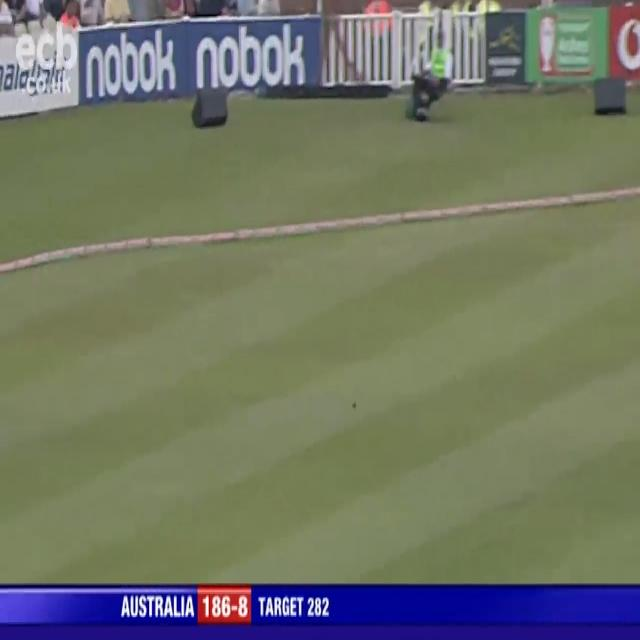ball: (348, 397, 359, 413)
